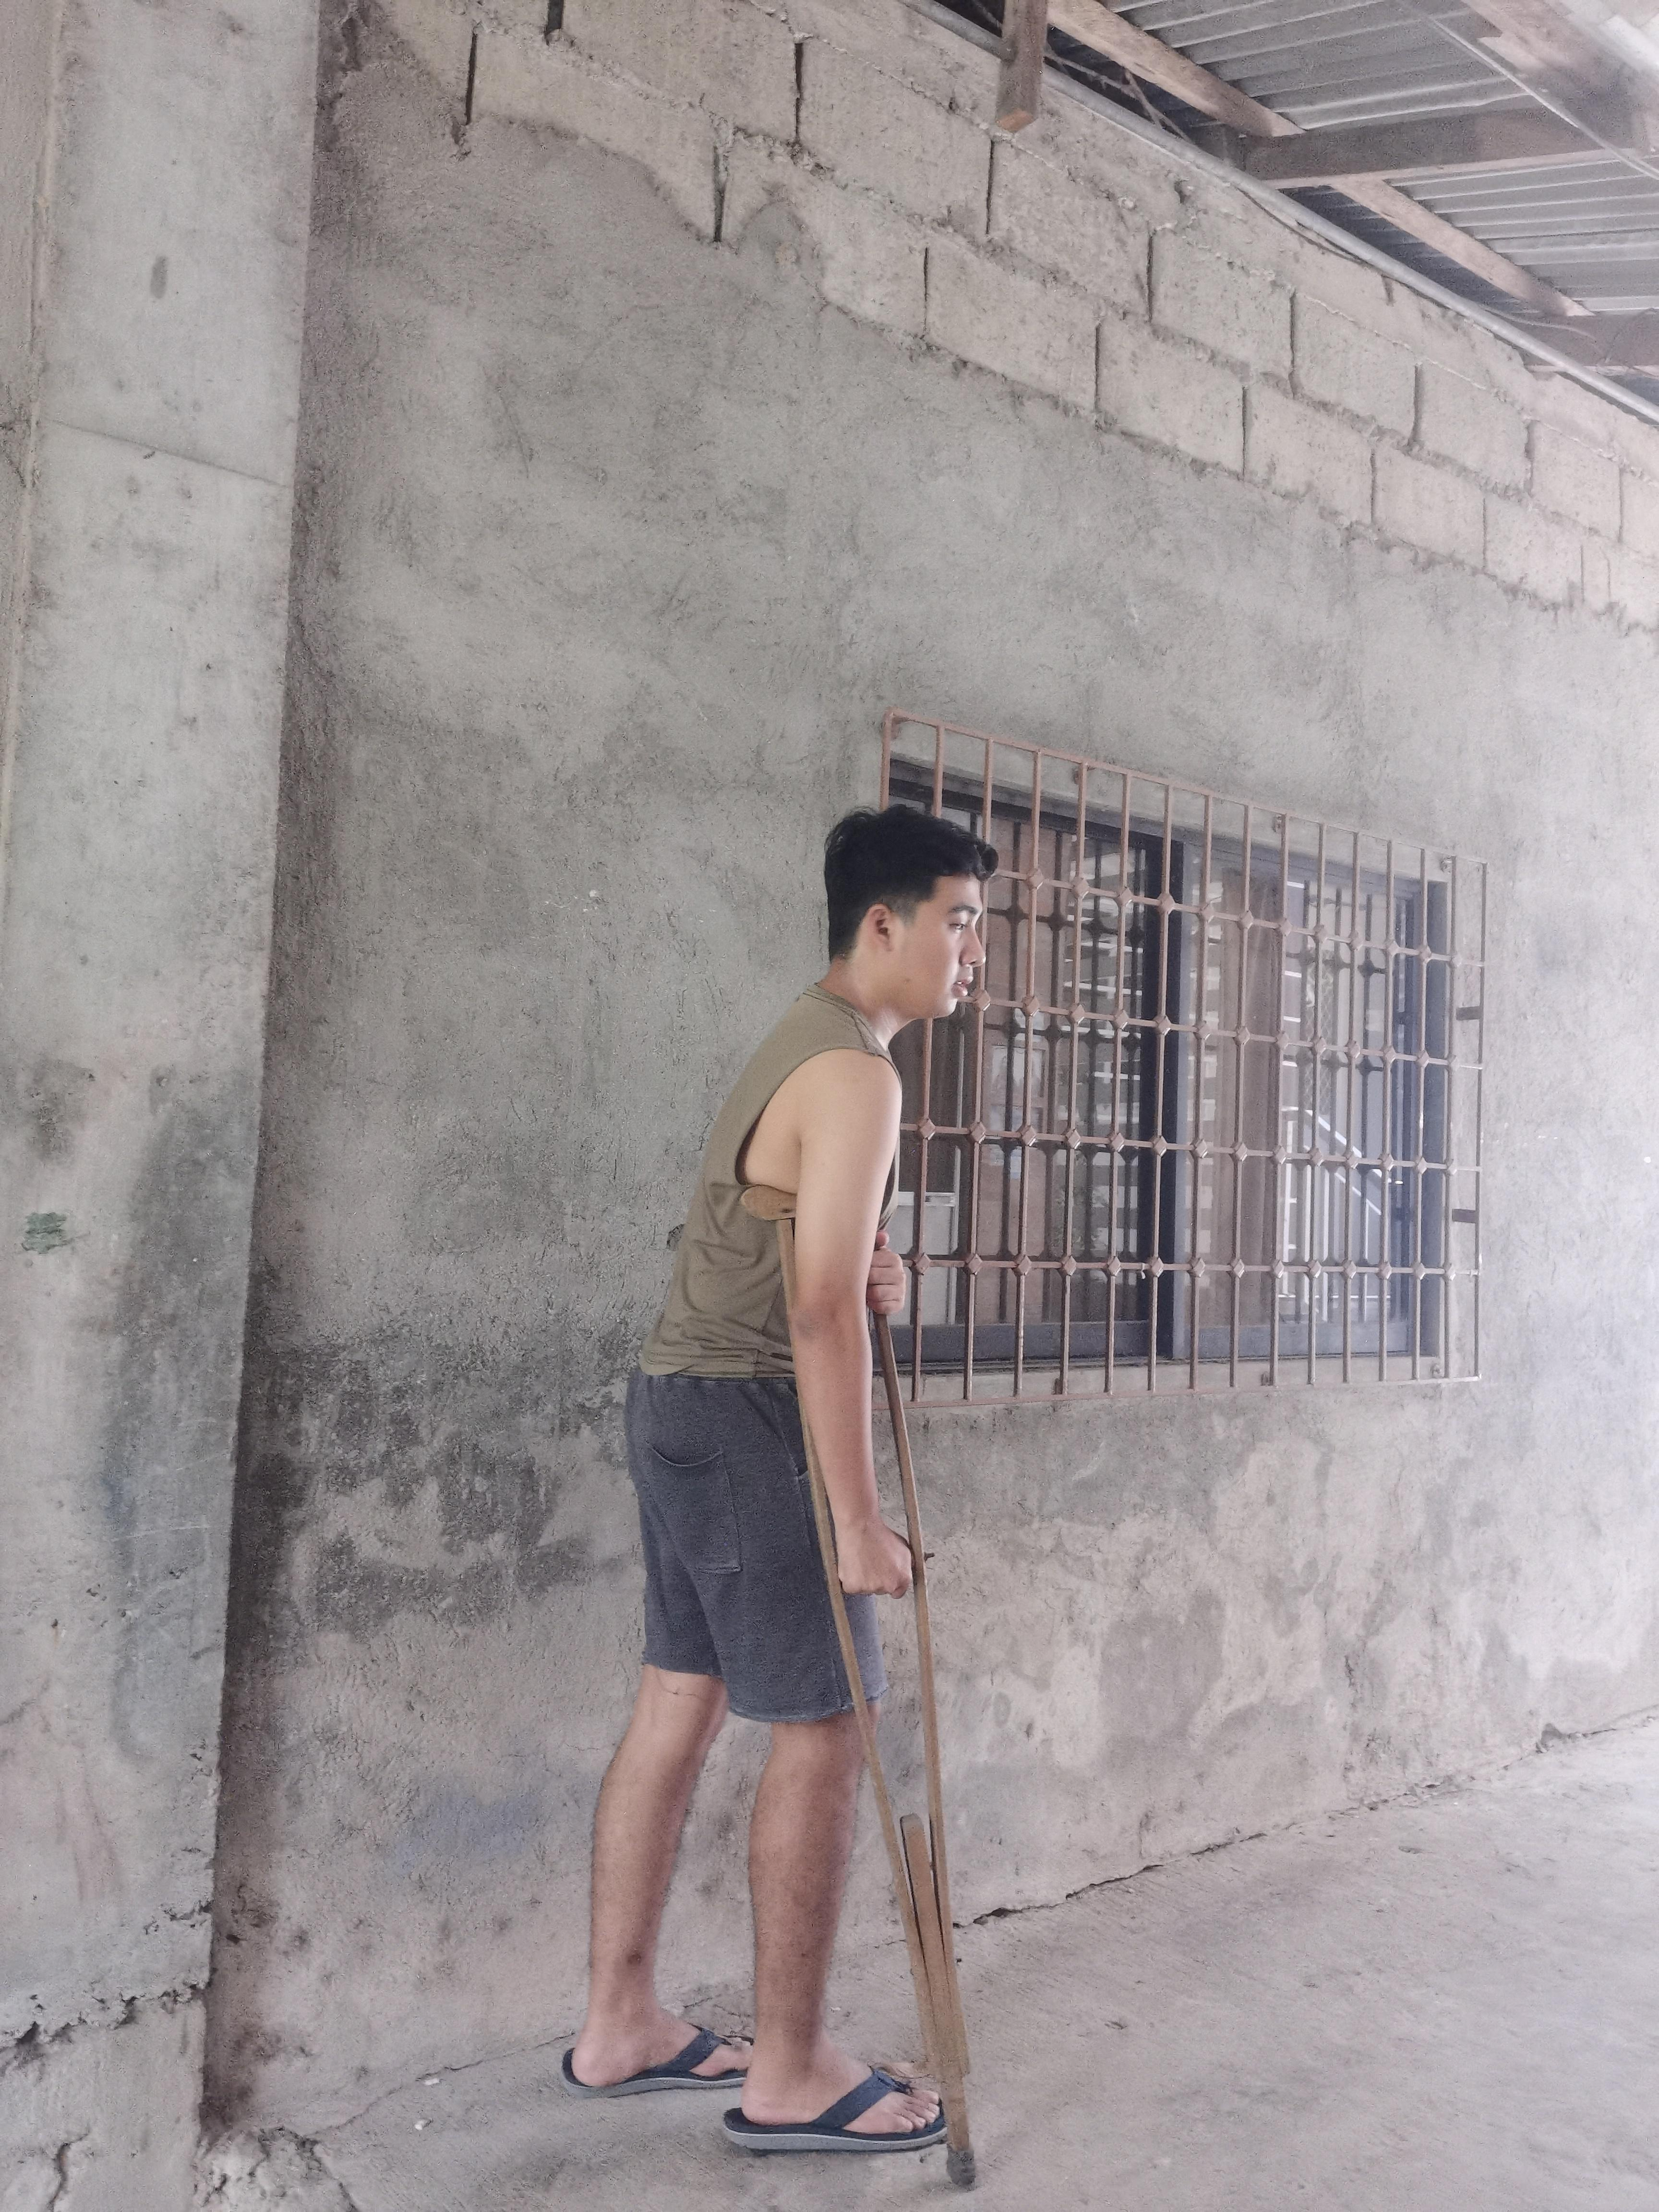crutches: (558, 789, 1018, 2212)
